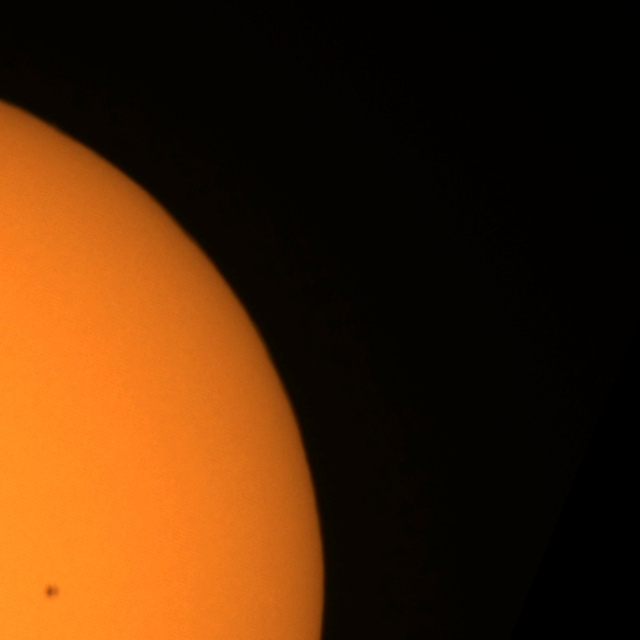sunspot: (42, 582, 62, 602)
